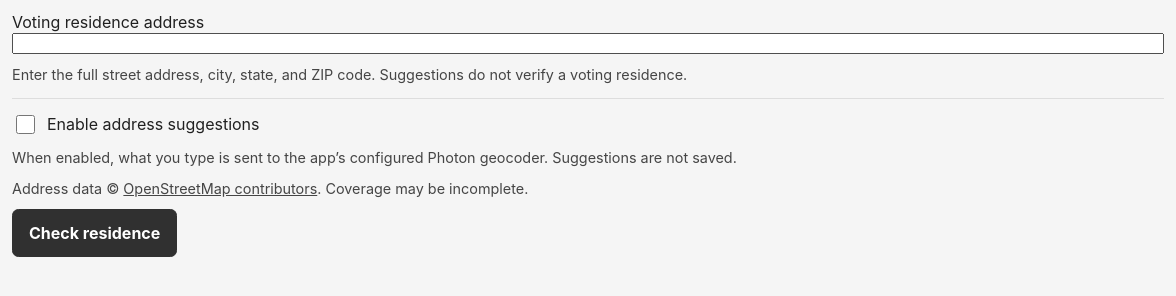
Test: address suggestions › debounces opted-in typing and sends it only in a same-origin POST body
Click the checkbox labelled "Enable address suggestions" at (26, 124), box [16,115,35,134]
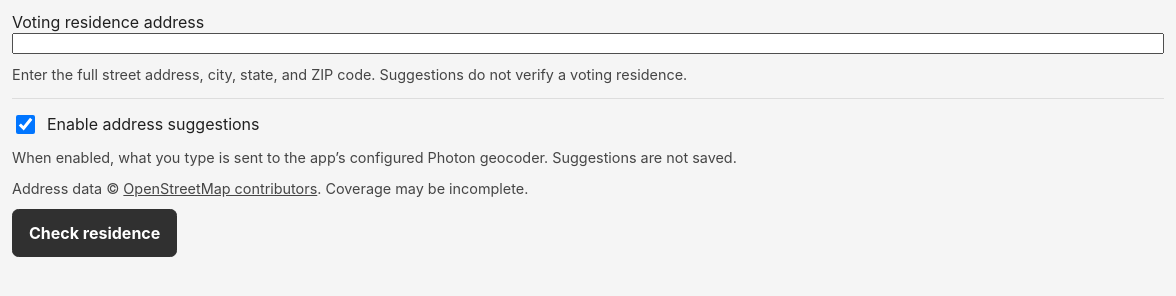
Type "12" into the dropdown labelled "Voting residence address" at (588, 44), box [12,33,1164,54]
Wait 500 ms
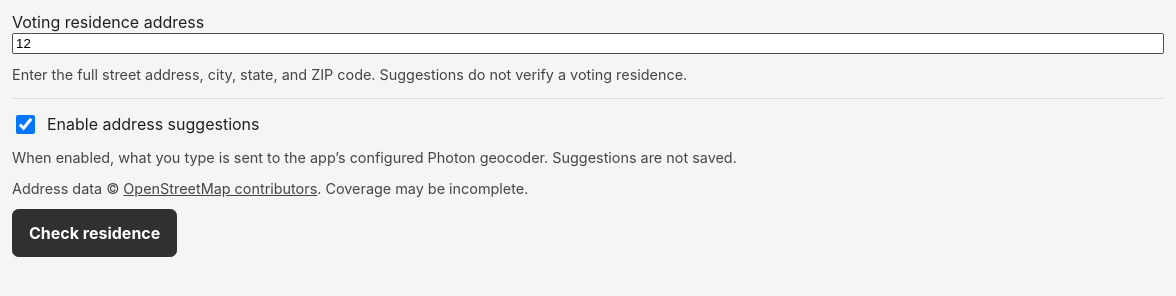
Replace the text in the dropdown labelled "Voting residence address" with "123 Mi" at (588, 44), box [12,33,1164,54]
Wait 250 ms
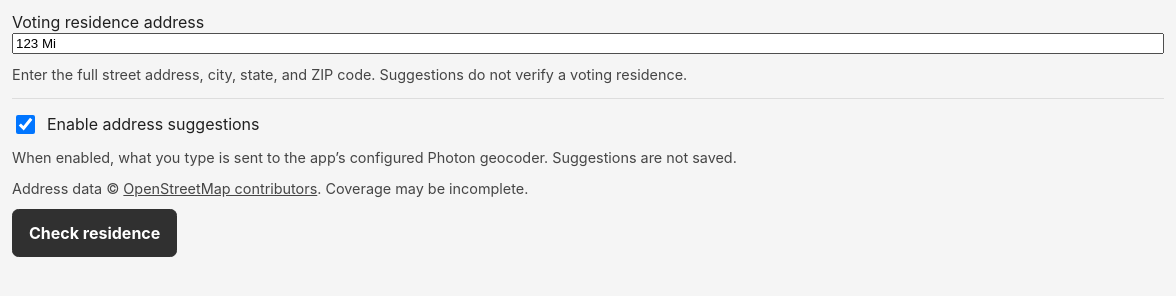
Replace the text in the dropdown labelled "Voting residence address" with "123 Mian St, Springfield" at (588, 44), box [12,33,1164,54]
Wait 500 ms
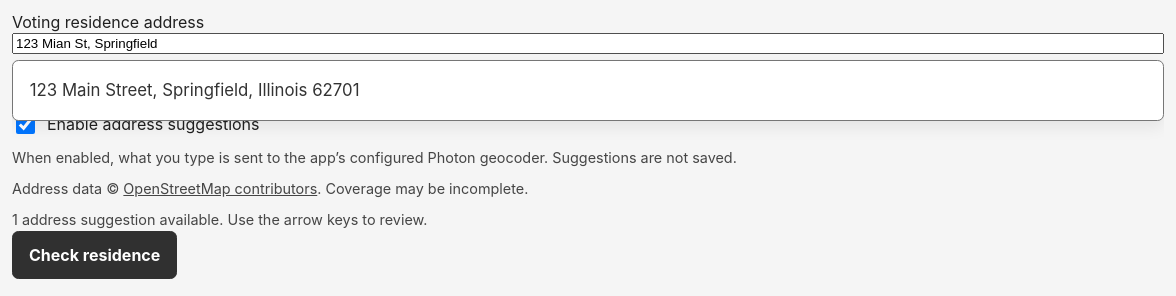
Expected: the option "123 Main Street, Springfield, Illinois 62701" is shown, [30,80,360,100]
